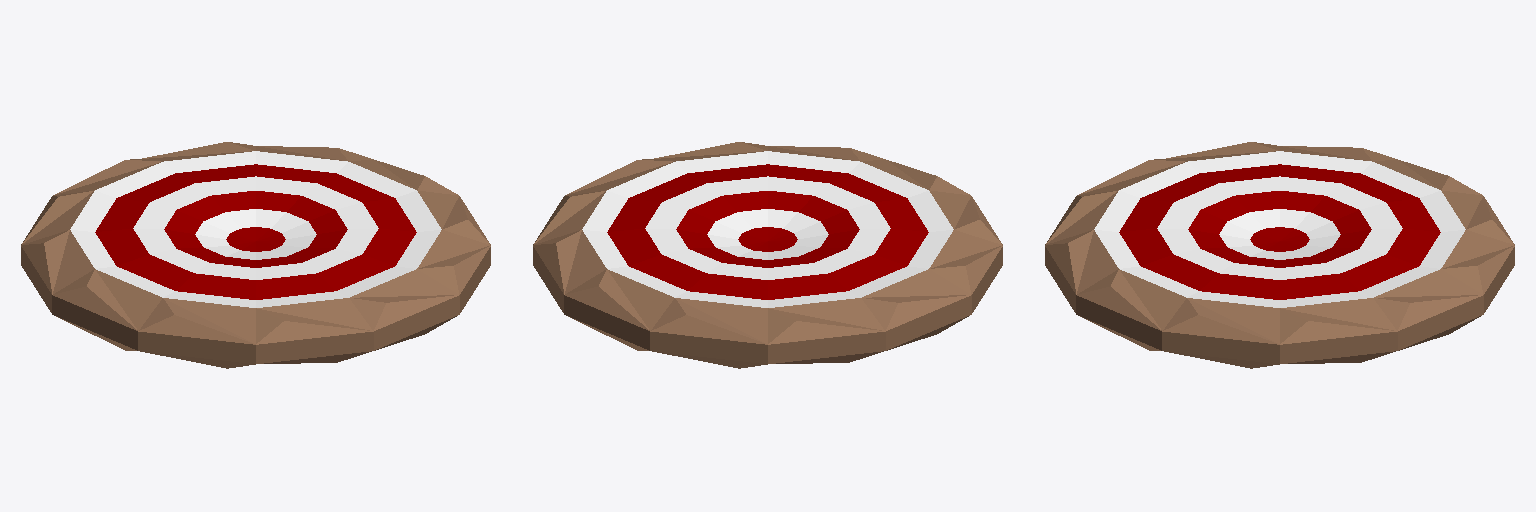
The model's file is Target.obj.
The picture shows the model from 3 angles: view 1: azimuth 30°, elevation 25°; view 2: azimuth 150°, elevation 25°; view 3: azimuth 270°, elevation 25°; orthographic projection.
Parts seen in each view (by area): view 1: Target; view 2: Target; view 3: Target.
Part boxes in pixels (bbox=[...]): Target: bbox=[21, 142, 490, 368]; Target: bbox=[533, 142, 1002, 368]; Target: bbox=[1045, 142, 1514, 368].
Bounding box in the file's own units: 1.5 × 0.1944 × 1.5.